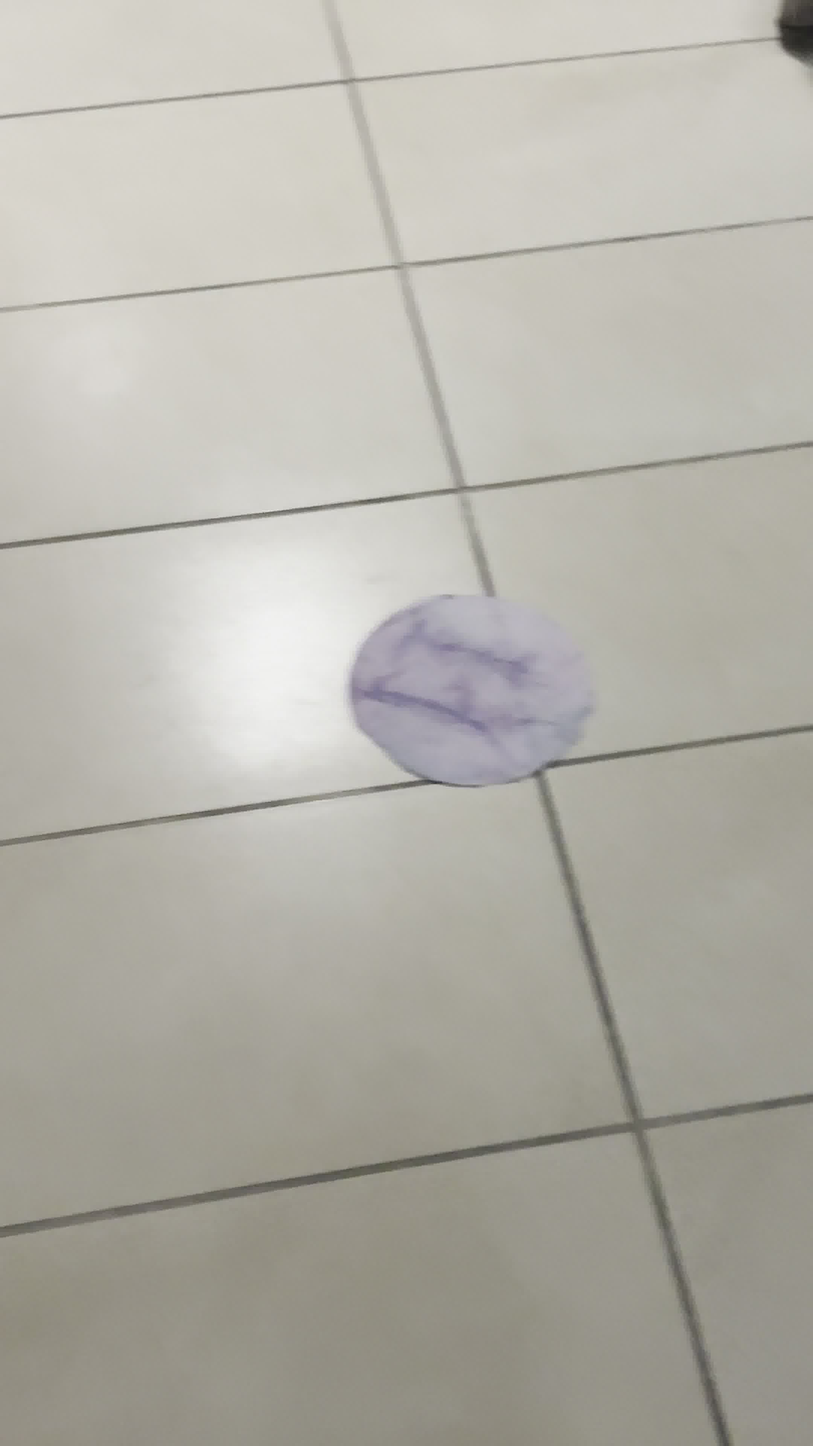Target: (352, 594, 602, 790)
